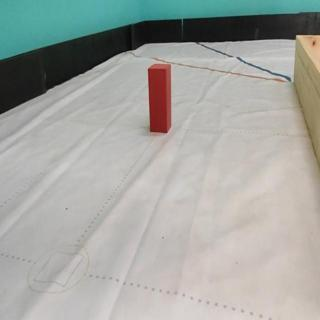redbox: (149, 63, 172, 133)
